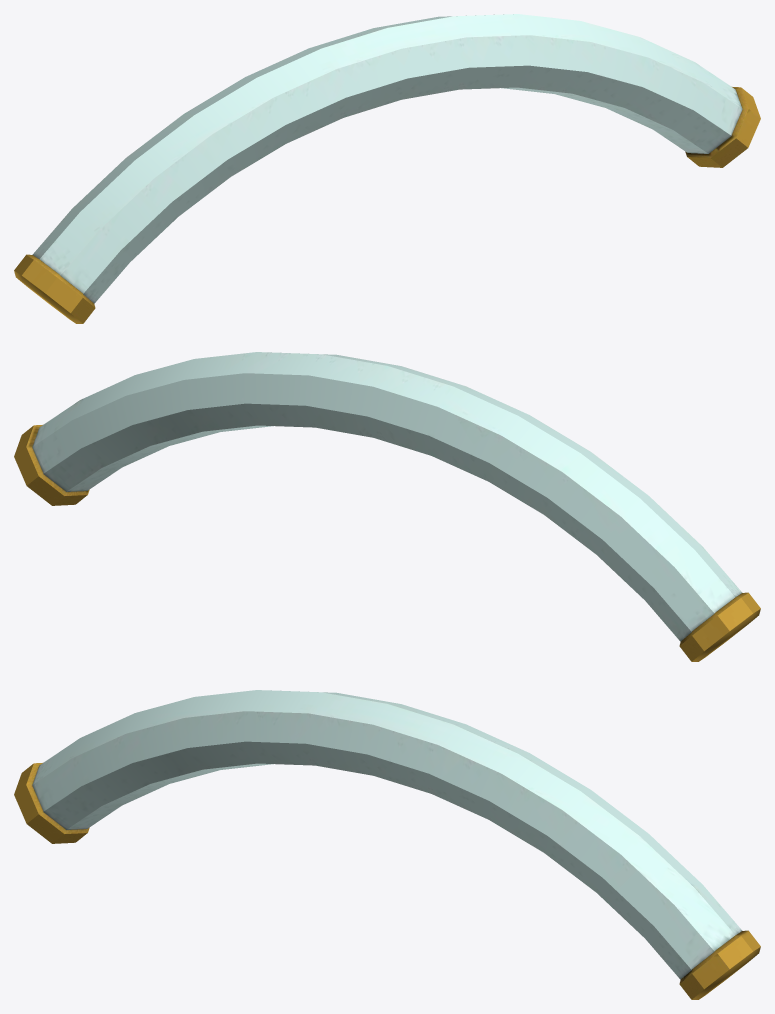
The picture shows the model from 3 angles, top to bottom: view 1: azimuth 30°, elevation 25°; view 2: azimuth 150°, elevation 25°; view 3: azimuth 330°, elevation 25°; orthographic projection.
Visible parts, largest first — view 1: Clear_neon_glass, Brushed_gold_end_caps; view 2: Clear_neon_glass, Brushed_gold_end_caps; view 3: Clear_neon_glass, Brushed_gold_end_caps.
Part boxes in pixels (x1=…): Clear_neon_glass: x1=32, y1=14, x2=742, y2=303; Brushed_gold_end_caps: x1=14, y1=87, x2=760, y2=323; Clear_neon_glass: x1=32, y1=352, x2=742, y2=641; Brushed_gold_end_caps: x1=14, y1=425, x2=760, y2=661; Clear_neon_glass: x1=32, y1=690, x2=742, y2=979; Brushed_gold_end_caps: x1=14, y1=763, x2=760, y2=999.
Size of the model in its own units: 0.5939 by 0.1667 by 0.062.
3 materials, 3 textured.
